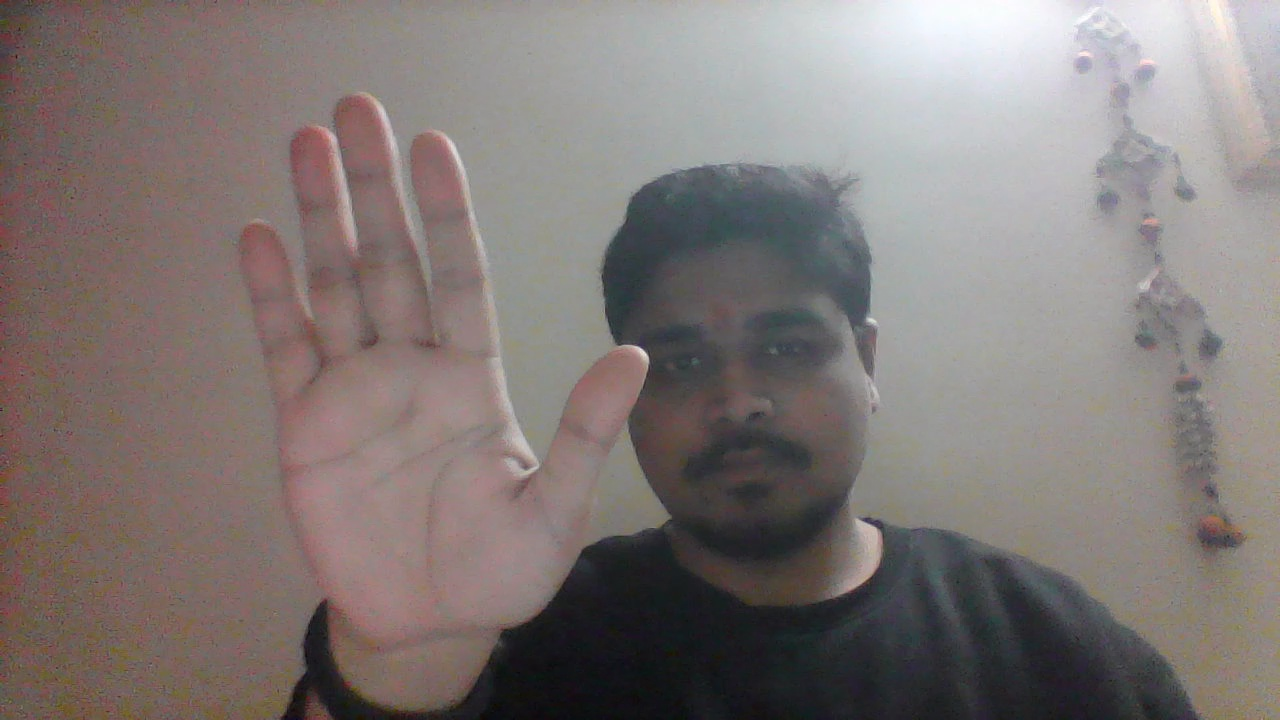Hello: (236, 86, 654, 658)
